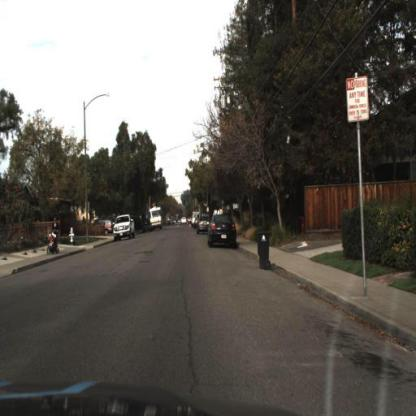car: (206, 213, 237, 250), (112, 214, 135, 241), (196, 212, 211, 235)
pedestrian: (48, 214, 59, 258)
truck: (149, 205, 165, 230)
